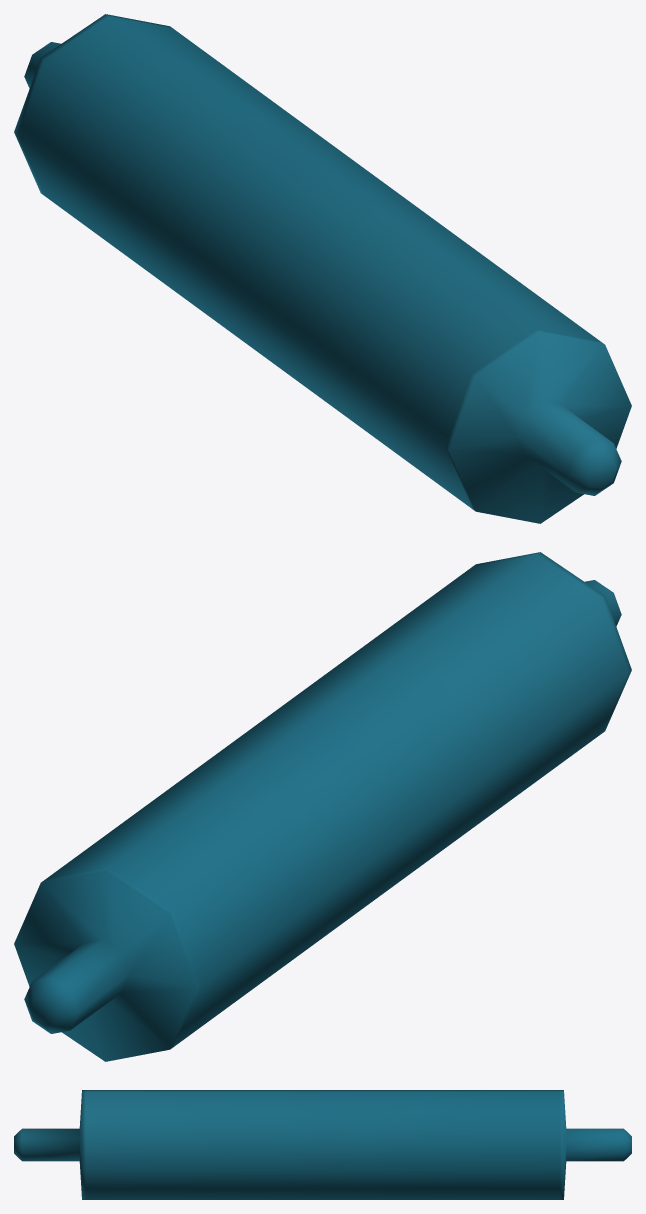
File: rolling-pin.glb
3 views of the same model, one above another, from view 1: azimuth 30°, elevation 25°; view 2: azimuth 150°, elevation 25°; view 3: azimuth 270°, elevation 25° (orthographic). The views are drawn at different scales.
Parts seen in each view (by area): view 1: RollingPin.001; view 2: RollingPin.001; view 3: RollingPin.001.
Part boxes in pixels (x1=…): RollingPin.001: x1=14, y1=14, x2=631, y2=523; RollingPin.001: x1=14, y1=552, x2=631, y2=1061; RollingPin.001: x1=14, y1=1090, x2=631, y2=1199.
Size of the model in its own units: 0.0835 by 0.0835 by 0.4411.
Materials: 1 (1 with a texture image).
